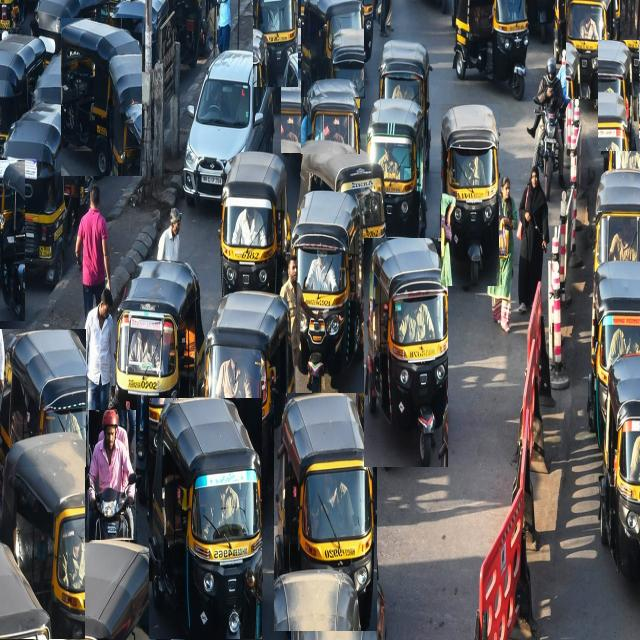autorickshaw: (149, 399, 262, 639), (275, 394, 377, 631), (115, 263, 205, 501), (365, 239, 448, 467), (205, 291, 296, 496), (0, 432, 85, 639), (4, 103, 91, 283), (291, 193, 364, 392), (34, 540, 168, 640), (61, 19, 142, 176), (0, 329, 86, 467), (298, 141, 386, 270), (441, 105, 499, 286), (219, 153, 290, 296), (588, 263, 640, 447), (599, 356, 640, 581), (366, 100, 425, 238), (452, 0, 529, 99), (281, 28, 334, 153), (379, 43, 431, 170), (301, 0, 364, 97), (566, 0, 620, 99), (594, 172, 640, 269), (599, 40, 639, 151), (301, 81, 360, 154), (0, 160, 25, 321), (254, 0, 298, 87), (609, 93, 640, 168)
car: (182, 50, 274, 205)
motorcycle: (89, 411, 136, 540), (532, 57, 564, 197)
